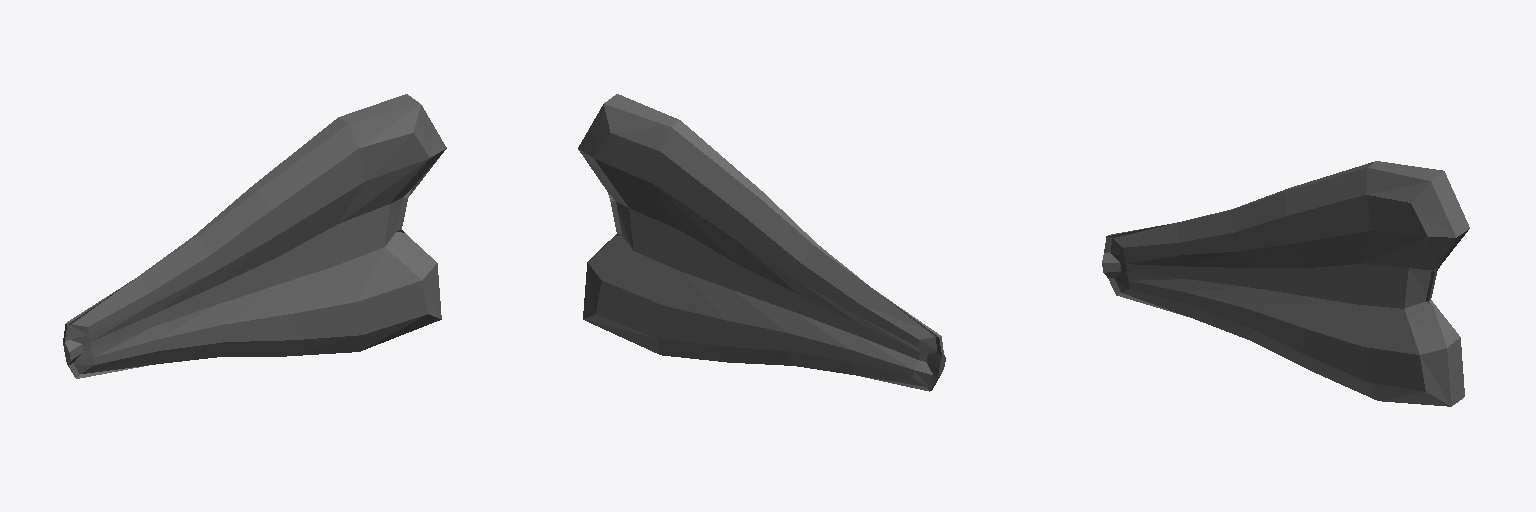
Rendered from beeWing0.obj.
3 views of the same model, side by side, from view 1: azimuth 30°, elevation 25°; view 2: azimuth 150°, elevation 25°; view 3: azimuth 330°, elevation 25° (orthographic).
Visible parts, largest first — view 1: Box273; view 2: Box273; view 3: Box273.
Boxes of the visible parts, x1=… form: Box273: x1=63, y1=94, x2=446, y2=378; Box273: x1=578, y1=94, x2=945, y2=391; Box273: x1=1102, y1=161, x2=1469, y2=406.
Size of the model in its own units: 29.44 by 18.19 by 3.67.